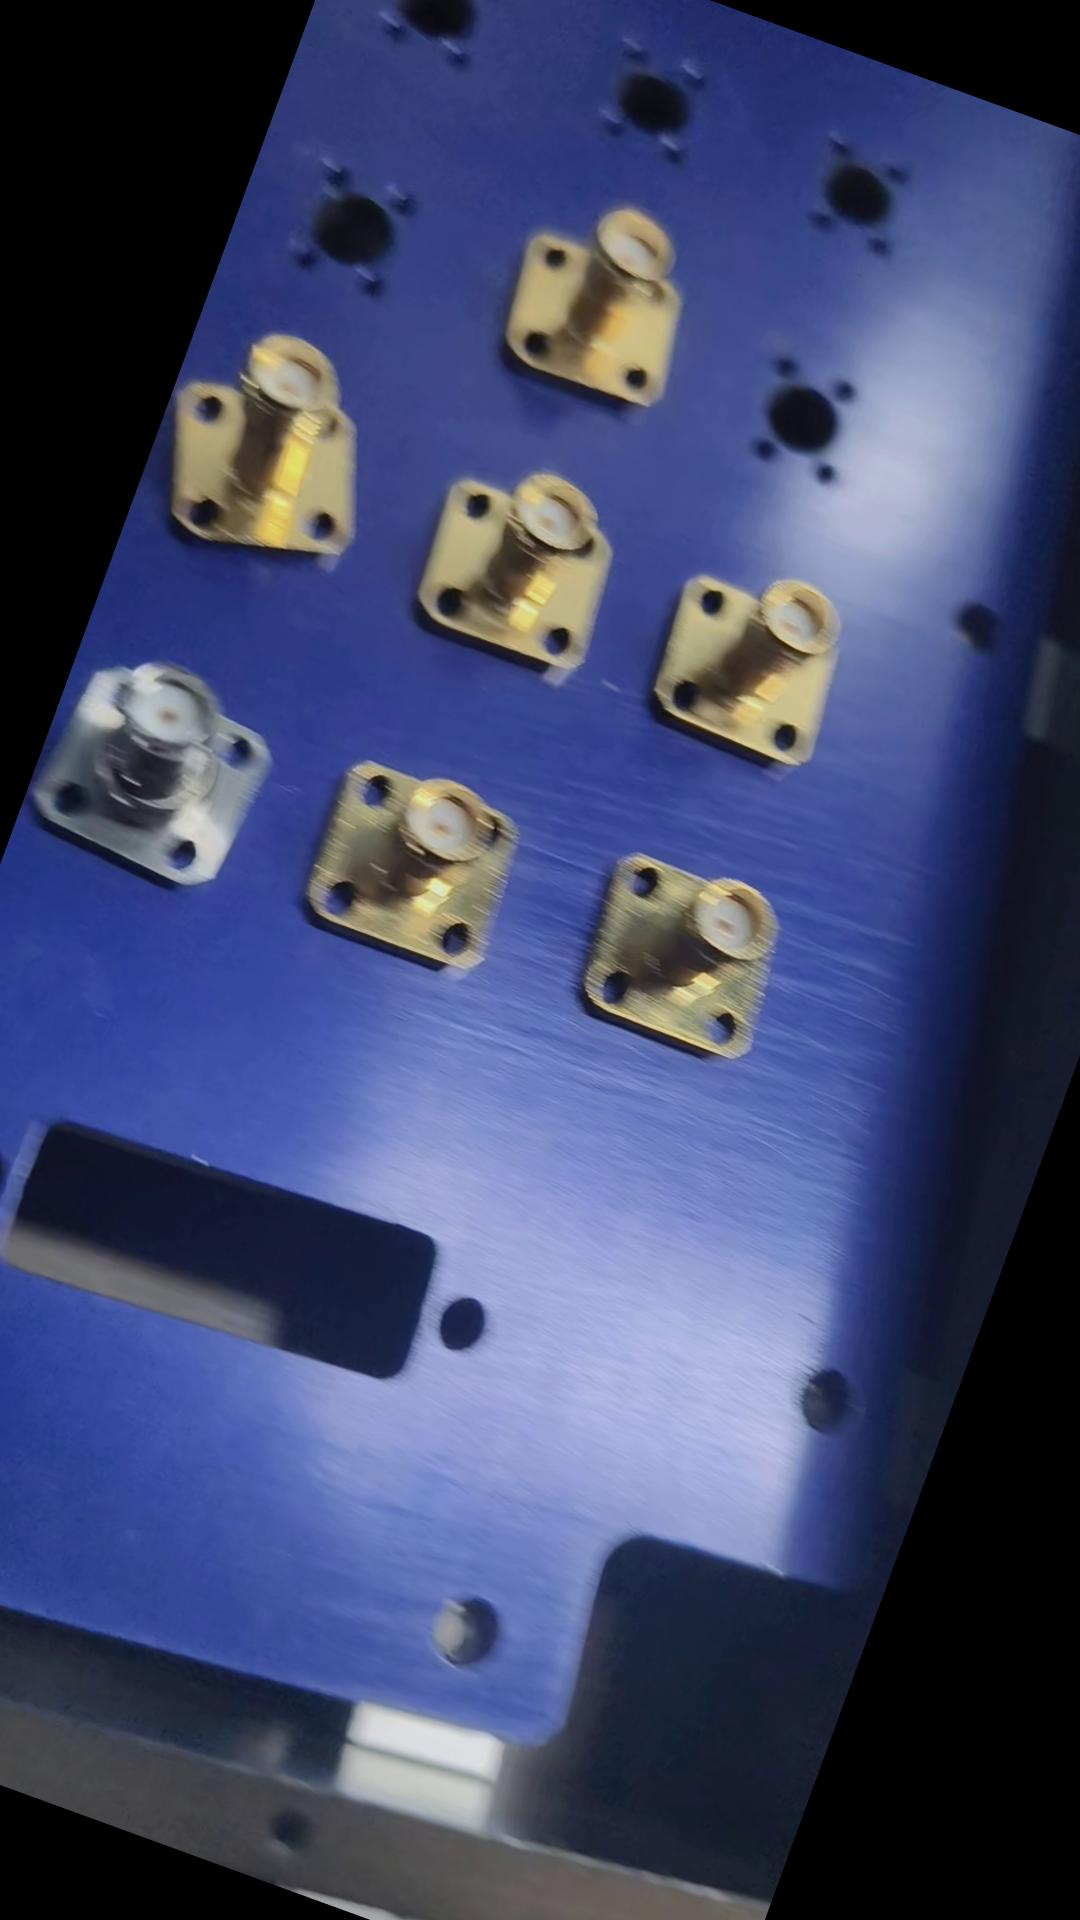SMA: (121, 301, 404, 592), (7, 633, 293, 911), (281, 740, 541, 989), (396, 436, 646, 688), (469, 171, 713, 421), (556, 837, 804, 1077), (633, 542, 876, 778)
